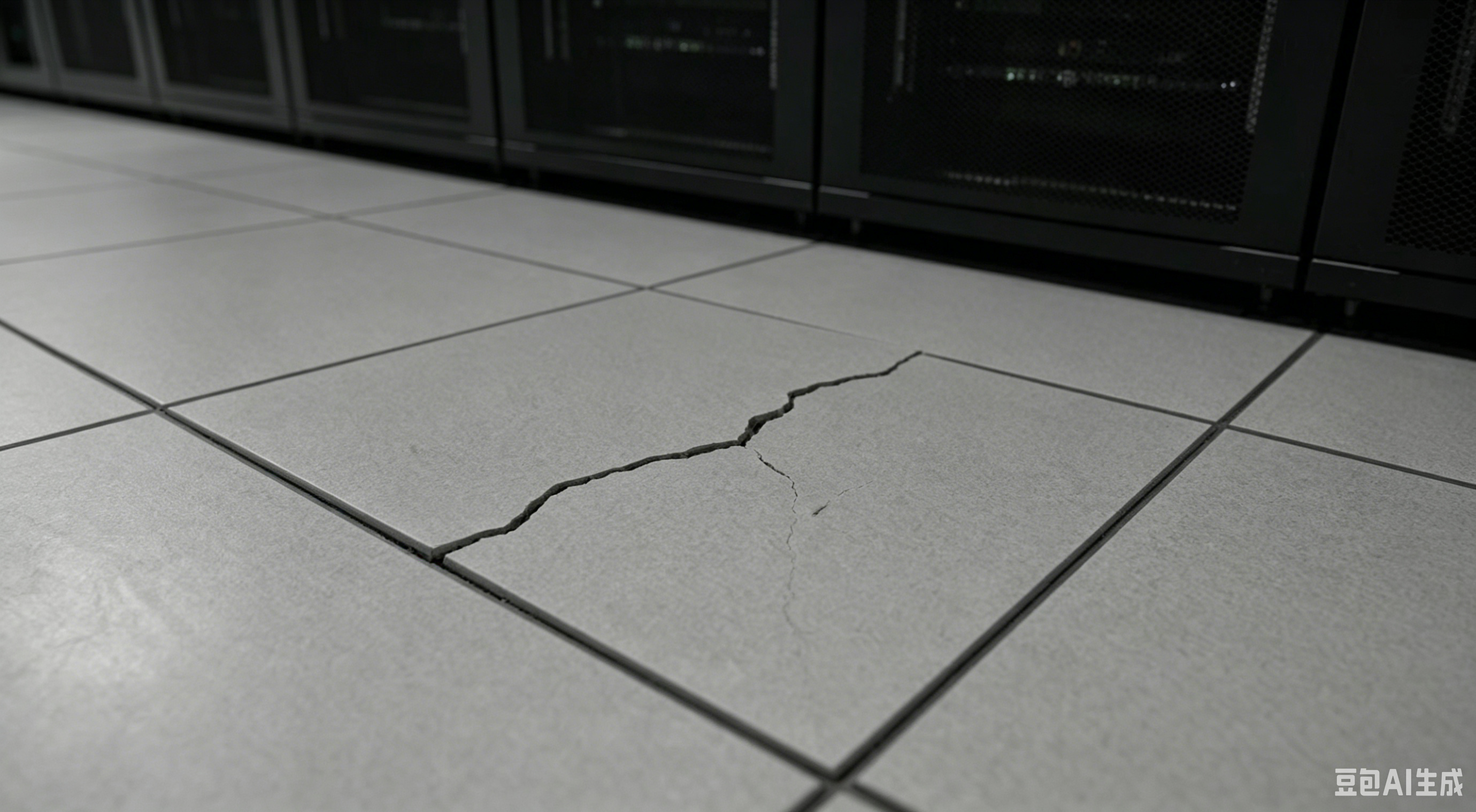floor_defect: (421, 480, 581, 566), (755, 444, 804, 635), (562, 435, 752, 482), (811, 347, 937, 385), (736, 387, 826, 435)
